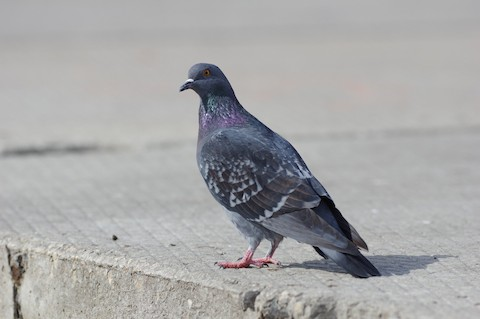pigeon: (176, 56, 388, 284)
